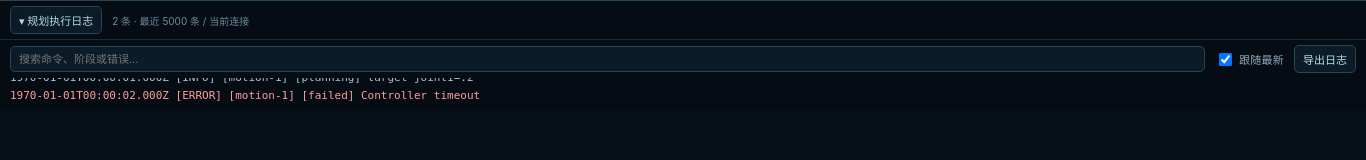
Test case: searches without discarding records, exports unfiltered history and reports errors
The image size is (1366, 160).
(page scrolled)
Type "TIMEOUT" into the search field at (608, 59), box [10,46,1205,72]
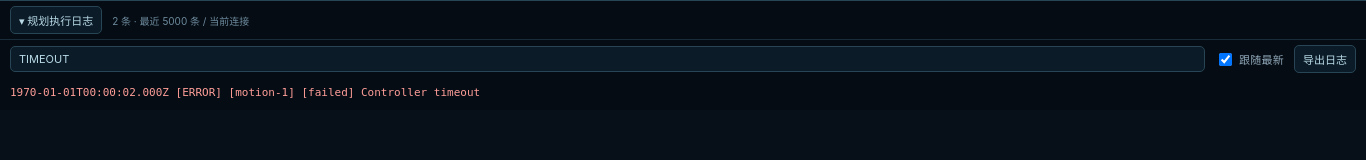
Expected: the element named "规划日志输出" shows "Controller timeout", [10,86,480,99]
Now the element named "规划日志输出" no longer shows "target joint1", box [10,86,480,99]
Click the button "导出日志" at (1325, 59), box [1294,45,1356,73]
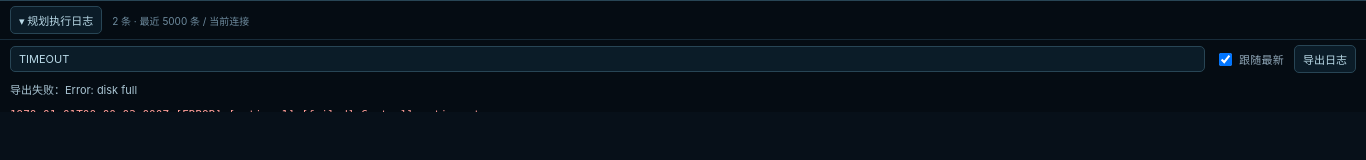
Now the text "导出失败：Error: disk full" is shown, box [10,83,137,97]
Click the button "导出日志" at (1325, 59), box [1294,45,1356,73]
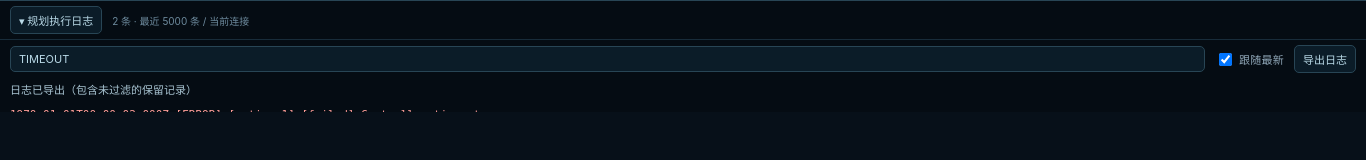
Now the text "日志已导出（包含未过滤的保留记录）" is shown, box [10,83,197,97]
